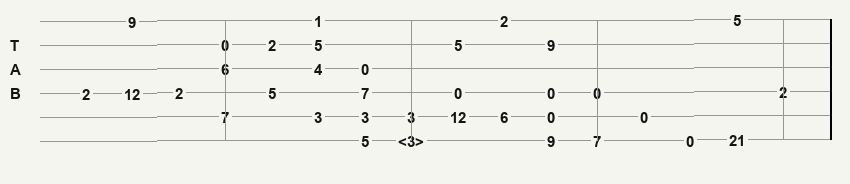0: (221, 37, 233, 52), (361, 61, 373, 76), (454, 85, 466, 100), (547, 109, 559, 124), (547, 85, 559, 100), (593, 85, 605, 100), (640, 109, 652, 124), (686, 133, 698, 148)
1: (314, 13, 326, 28)
12: (124, 85, 144, 100), (450, 109, 470, 124)
2: (82, 85, 94, 100), (175, 85, 187, 100), (268, 37, 280, 52), (500, 13, 512, 28), (779, 85, 791, 100)
21: (729, 133, 749, 148)
3: (314, 109, 326, 124), (361, 109, 373, 124), (407, 109, 419, 124)
4: (314, 61, 326, 76)
5: (268, 85, 280, 100), (314, 37, 326, 52), (361, 133, 373, 148), (454, 37, 466, 52), (733, 13, 745, 28)
6: (221, 61, 233, 76), (500, 109, 512, 124)
7: (221, 109, 233, 124), (361, 85, 373, 100), (593, 133, 605, 148)
9: (128, 13, 140, 28), (547, 37, 559, 52), (547, 133, 559, 148)
harmonic: (398, 133, 428, 148)
